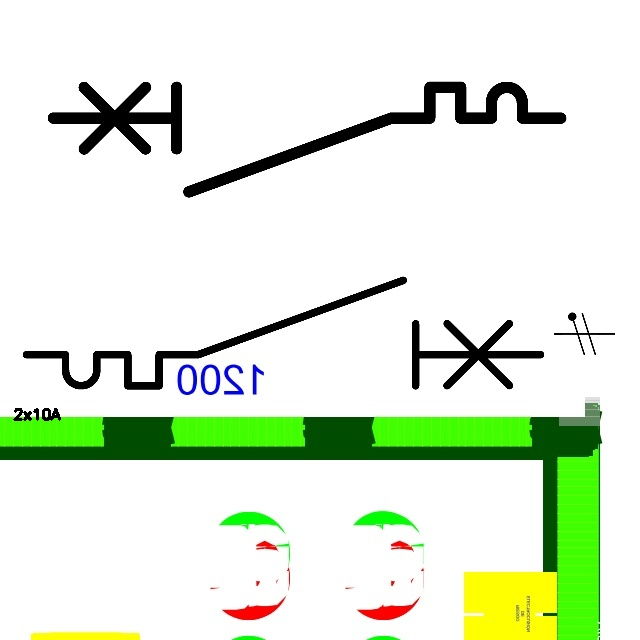interruptor_termomagnetico: (13, 267, 553, 399), (40, 74, 574, 204)
